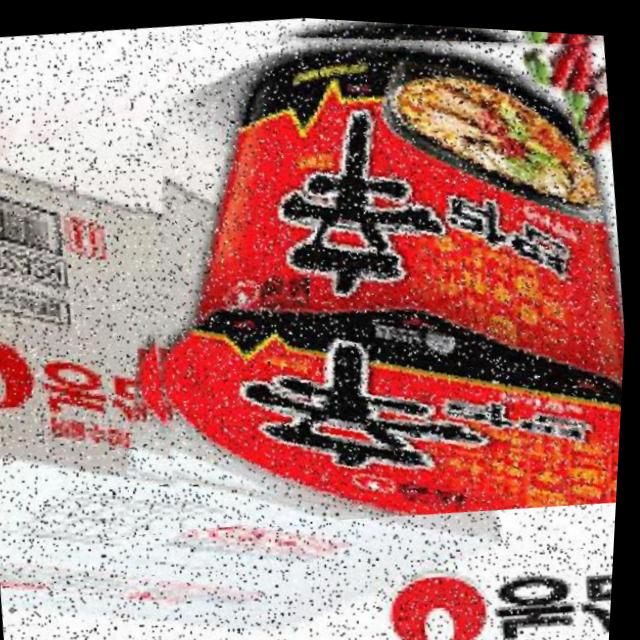Miscellaneous: (91, 5, 640, 551)
